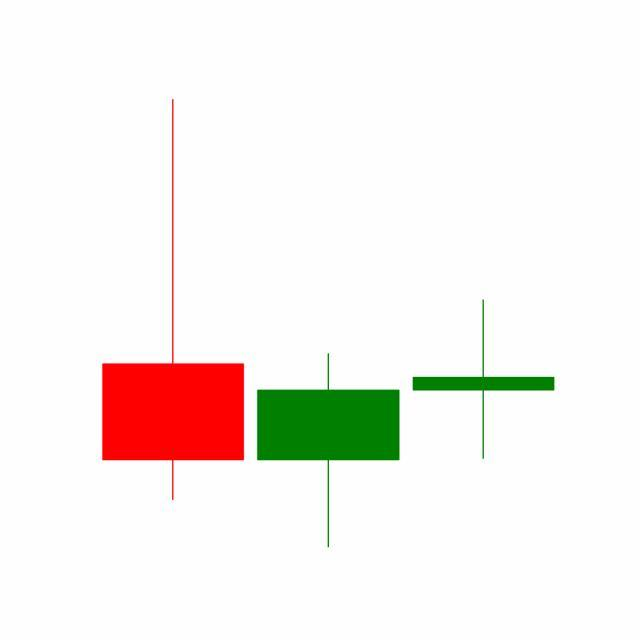Spinning Top: (406, 297, 562, 462)
